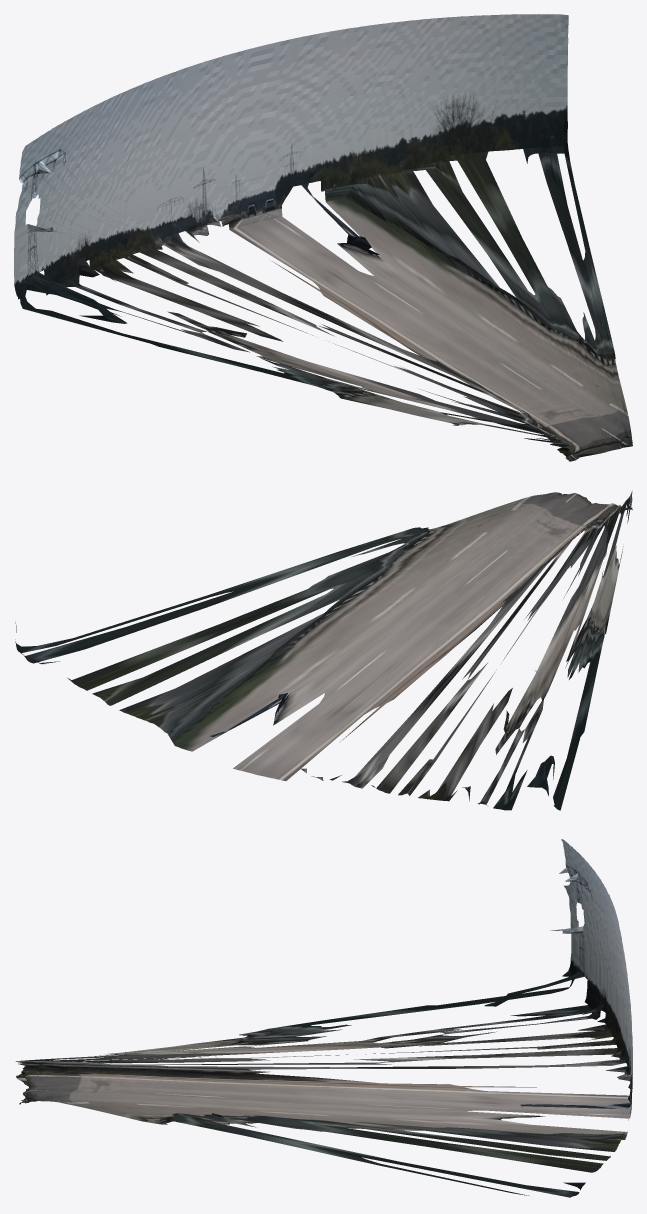
3 renders of one model, top to bottom at view 1: azimuth 30°, elevation 25°; view 2: azimuth 150°, elevation 25°; view 3: azimuth 270°, elevation 25°, orthographic. The views are drawn at different scales.
Parts seen in each view (by area): view 1: defaultobject; view 2: defaultobject; view 3: defaultobject.
Part boxes in pixels (left/top/right/bottom): defaultobject: left=14, top=14, right=632, bottom=461; defaultobject: left=15, top=491, right=632, bottom=810; defaultobject: left=15, top=839, right=632, bottom=1197.
Bounding box in the file's own units: 41.14 × 12.86 × 44.77.
Materials: 1 (1 with a texture image).
